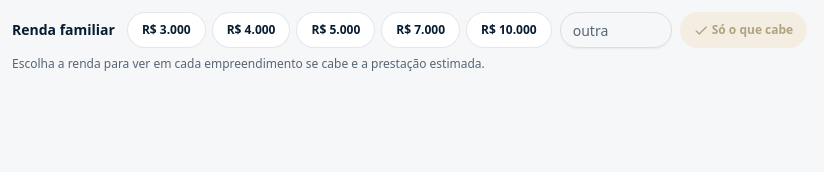
Test case: RendaCliente › o chip escolhido fica marcado e o aviso mostra a faixa
Click the button "R$ 5.000".
click(336, 30)  # box x1=296 y1=12 x2=375 y2=48
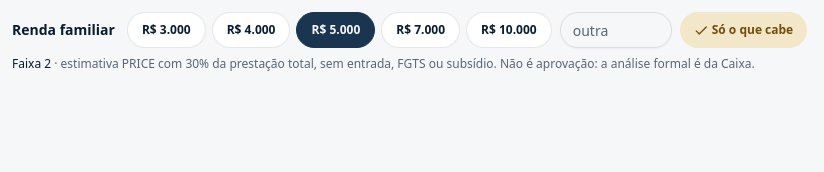
Expected: the field labelled "Renda familiar" is empty, x1=560 y1=12 x2=672 y2=48
Result: the text "Não é aprovação: a análise formal é da Caixa" is shown at x1=51 y1=55 x2=755 y2=72
